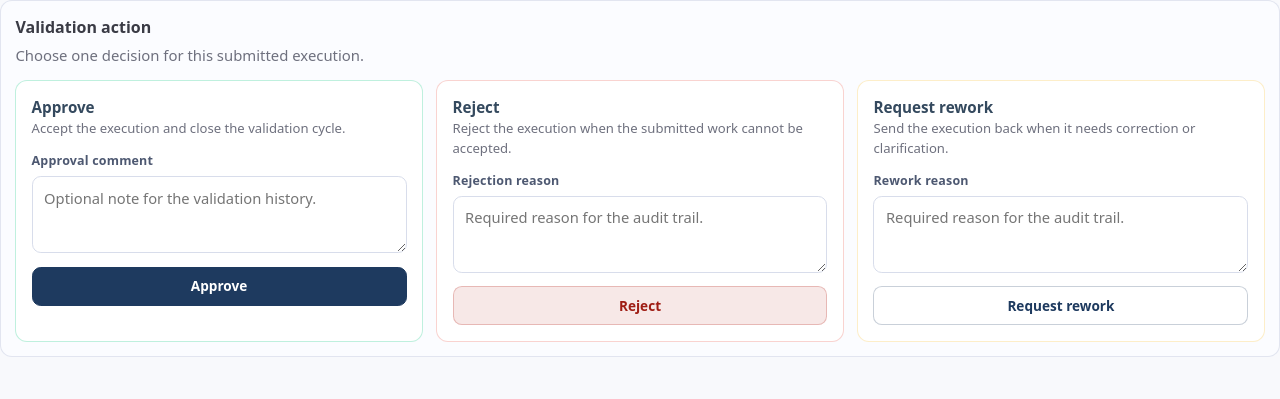
Scenario: PreventiveValidationActionPanel › should require rework reason
This screenshot has width=1280, height=399.
Click the button "Request rework". click: (1061, 306)
box: [874,286,1248,325]
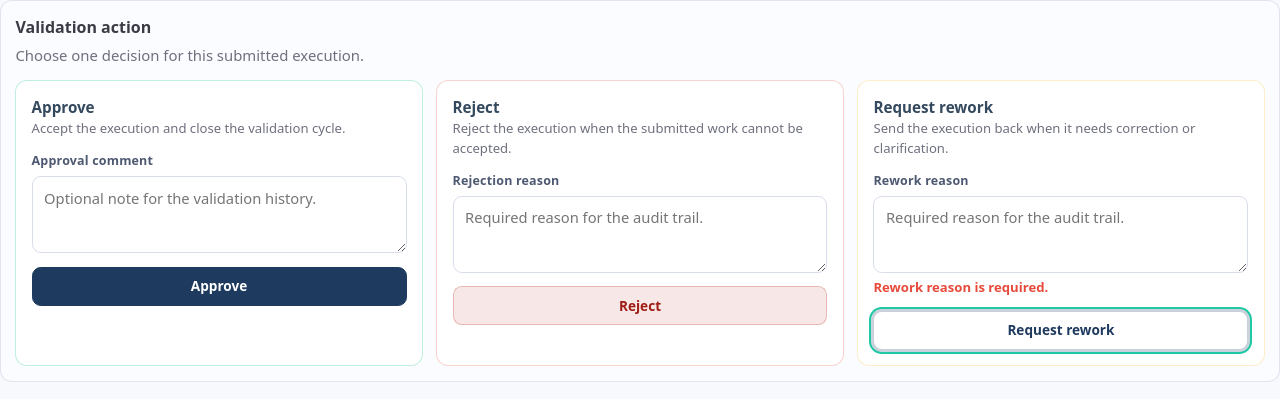
Check: the text "Rework reason is required." is shown, box [874,278,1048,296]
